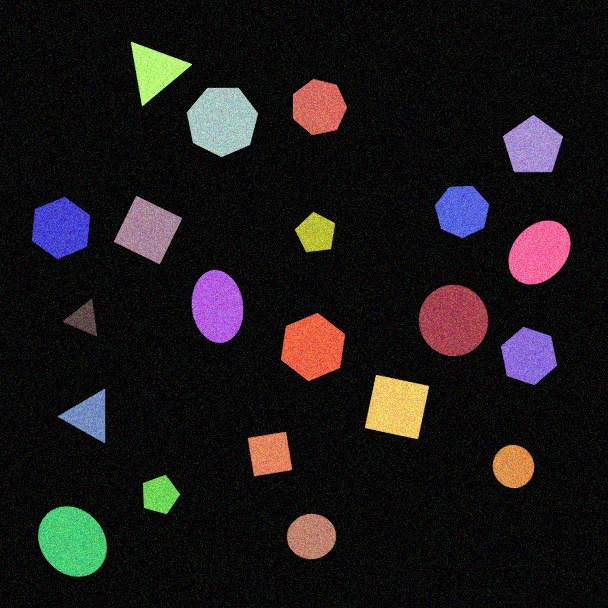Circulo: (418, 284, 489, 357), (286, 513, 337, 560), (492, 444, 535, 489)
Elipse: (37, 505, 108, 578), (508, 220, 571, 285), (191, 269, 244, 344)
Heptagono: (186, 87, 259, 158), (292, 78, 348, 136), (434, 185, 490, 239)
Hexagono: (280, 312, 346, 382), (31, 196, 91, 260), (500, 326, 558, 386)
Pentagono: (502, 114, 564, 173), (294, 211, 336, 253), (142, 474, 181, 515)
Quadrado: (113, 195, 183, 265), (364, 374, 430, 440), (247, 431, 293, 477)
Triangulo: (130, 41, 193, 107), (58, 388, 106, 444), (63, 298, 98, 337)
